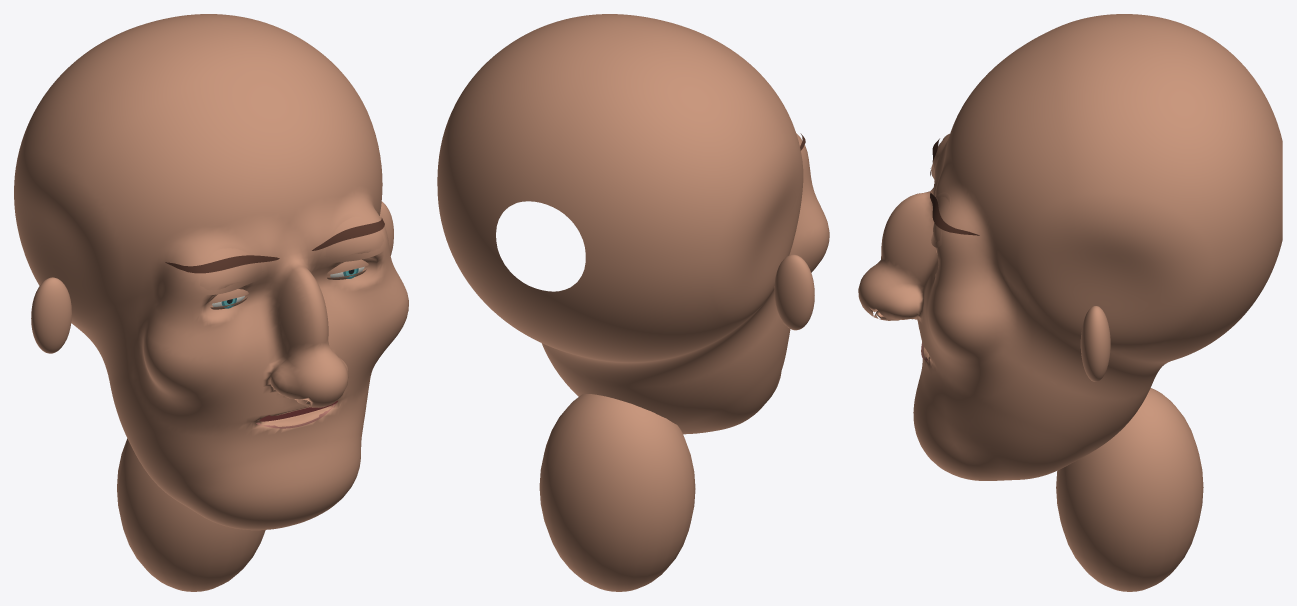
File: aether-head.glb
3 renders of one model, left to right at view 1: azimuth 30°, elevation 25°; view 2: azimuth 150°, elevation 25°; view 3: azimuth 270°, elevation 25°, orthographic.
Parts seen in each view (by area): view 1: Head, Neck, Ear.Left, Brows, BrowRidges; view 2: Head, Neck, Ear.Left; view 3: Head, Neck, Ear.Right.
Boxes of the visible parts, x1,y1,x2,y2 form: Head: (14, 14, 408, 530); Neck: (117, 438, 265, 591); Ear.Left: (31, 277, 71, 353); Brows: (165, 218, 384, 273); BrowRidges: (193, 213, 386, 294); Head: (437, 14, 829, 434); Neck: (539, 394, 695, 591); Ear.Left: (774, 254, 814, 330); Head: (858, 14, 1282, 480); Neck: (1056, 388, 1203, 591); Ear.Right: (1080, 306, 1110, 381).
Size of the model in its own units: 1.51 by 2.23 by 1.55.
